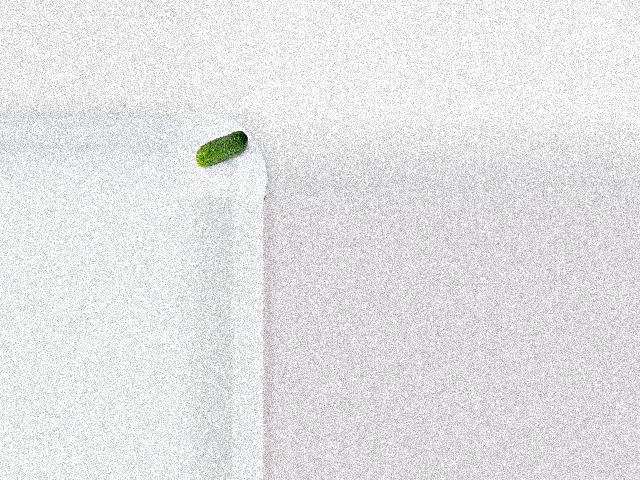cucumber: (196, 131, 246, 167)
